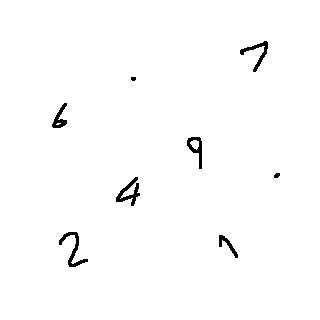.: (268, 168, 285, 183), (128, 71, 140, 84)
1: (212, 229, 245, 269)
2: (55, 223, 93, 272)
4: (111, 173, 152, 210)
6: (49, 97, 79, 144)
7: (232, 36, 280, 81)
9: (185, 132, 212, 172)
